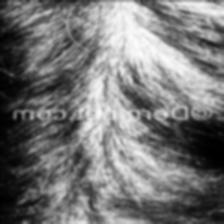Non-Cancerous Skin Condition: (77, 0, 185, 46)
